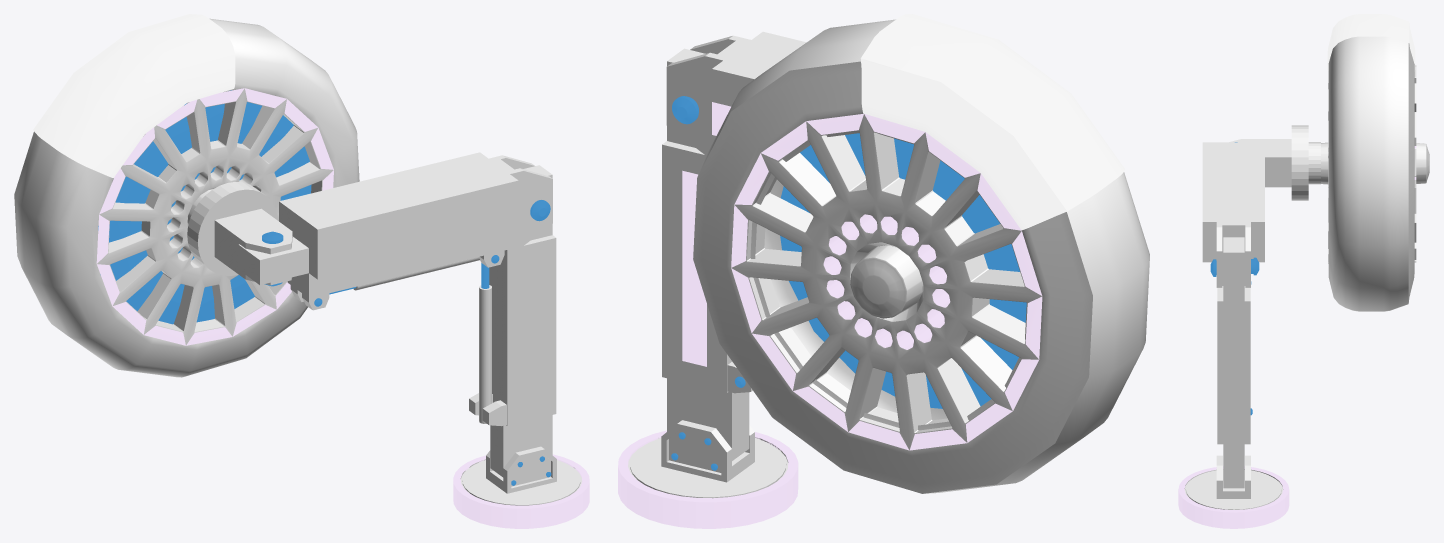
The picture shows the model from 3 angles, left to right: view 1: azimuth 30°, elevation 25°; view 2: azimuth 150°, elevation 25°; view 3: azimuth 270°, elevation 25°; orthographic projection. The views are drawn at different scales.
Parts seen in each view (by area): view 1: ban_2.038, ban_2.040, Plane.061, ban_2.042, Cube.010, ban_2.039, Plane.060, Circle.136, Circle.137, Plane.065, Cylinder.038, Plane.062; view 2: ban_2.041, ban_2.038, ban_2.042, Cube.010, Plane.060, Plane.061, Circle.136, ban_2.039, Circle.147; view 3: ban_2.038, Plane.061, Cube.010, Plane.060, Circle.136, ban_2.042, Circle.137, Plane.065, ban_2.041, ban_2.040.
Boxes of the visible parts, x1=… form: ban_2.038: x1=14, y1=18, x2=359, y2=377; ban_2.040: x1=96, y1=88, x2=333, y2=345; Plane.061: x1=238, y1=152, x2=552, y2=297; ban_2.042: x1=33, y1=14, x2=235, y2=178; Cube.010: x1=489, y1=165, x2=556, y2=477; ban_2.039: x1=98, y1=90, x2=311, y2=324; Plane.060: x1=460, y1=446, x2=581, y2=505; Circle.136: x1=453, y1=454, x2=589, y2=528; Circle.137: x1=187, y1=182, x2=277, y2=275; Plane.065: x1=214, y1=208, x2=292, y2=285; Cylinder.038: x1=479, y1=285, x2=491, y2=423; Plane.062: x1=469, y1=393, x2=506, y2=426; ban_2.041: x1=731, y1=113, x2=1042, y2=450; ban_2.038: x1=693, y1=19, x2=1149, y2=493; ban_2.042: x1=860, y1=14, x2=1124, y2=230; Cube.010: x1=662, y1=48, x2=749, y2=460; Plane.060: x1=628, y1=420, x2=788, y2=498; Plane.061: x1=666, y1=31, x2=806, y2=155; Circle.136: x1=618, y1=430, x2=798, y2=528; ban_2.039: x1=780, y1=133, x2=1026, y2=408; Circle.147: x1=672, y1=96, x2=698, y2=124; ban_2.038: x1=1328, y1=36, x2=1414, y2=311; Plane.061: x1=1202, y1=142, x2=1264, y2=287; Cube.010: x1=1217, y1=237, x2=1250, y2=488; Plane.060: x1=1184, y1=455, x2=1283, y2=509; Circle.136: x1=1178, y1=466, x2=1289, y2=528; ban_2.042: x1=1327, y1=14, x2=1415, y2=71; Circle.137: x1=1291, y1=125, x2=1320, y2=200; Plane.065: x1=1229, y1=139, x2=1291, y2=187; ban_2.041: x1=1414, y1=64, x2=1429, y2=262; ban_2.040: x1=1321, y1=71, x2=1328, y2=263.
Bounding box in the file's own units: 22.62 × 21.78 × 13.01.
